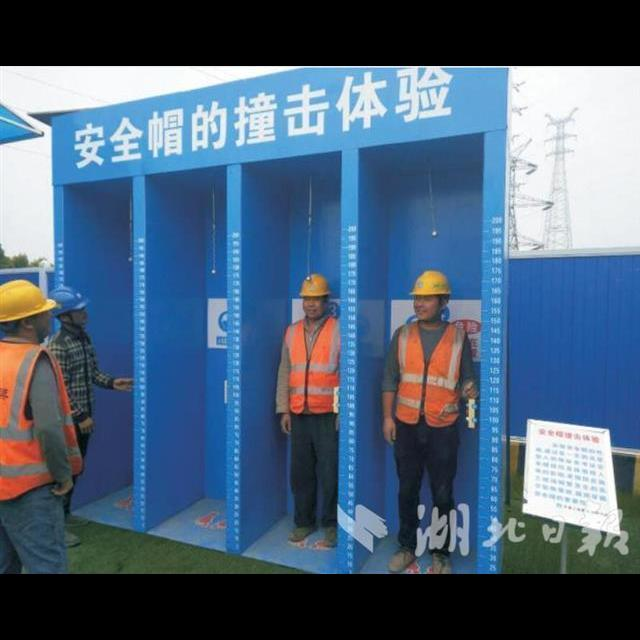Hardhat: (411, 271, 452, 296), (300, 275, 332, 297)
NO-Hardhat: (0, 279, 56, 322), (49, 287, 91, 314)
NO-Mask: (22, 316, 54, 339), (63, 311, 90, 326), (416, 303, 441, 319), (304, 303, 326, 319)
NO-Safety Vest: (52, 335, 96, 413)
Person: (383, 271, 478, 574), (0, 279, 84, 574), (49, 284, 134, 546), (278, 275, 343, 549)
Safety Vest: (0, 339, 87, 504), (397, 322, 467, 427), (285, 318, 342, 413)
